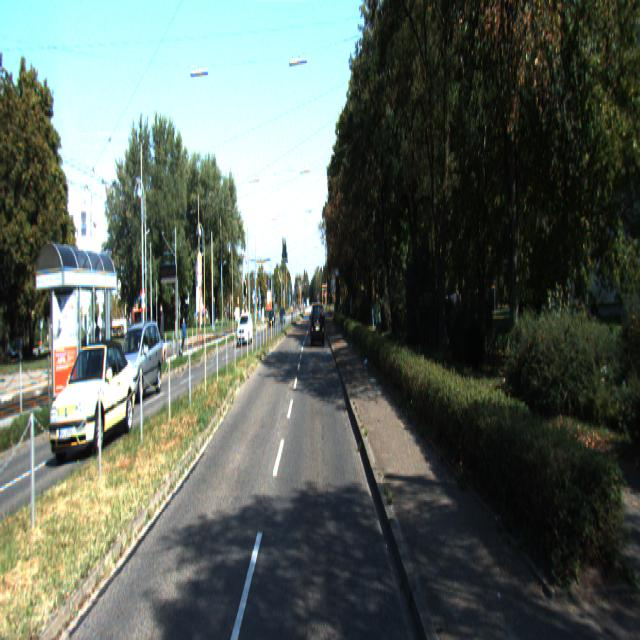Car: (50, 341, 137, 464), (114, 318, 163, 406), (311, 303, 325, 349), (237, 314, 253, 348)
